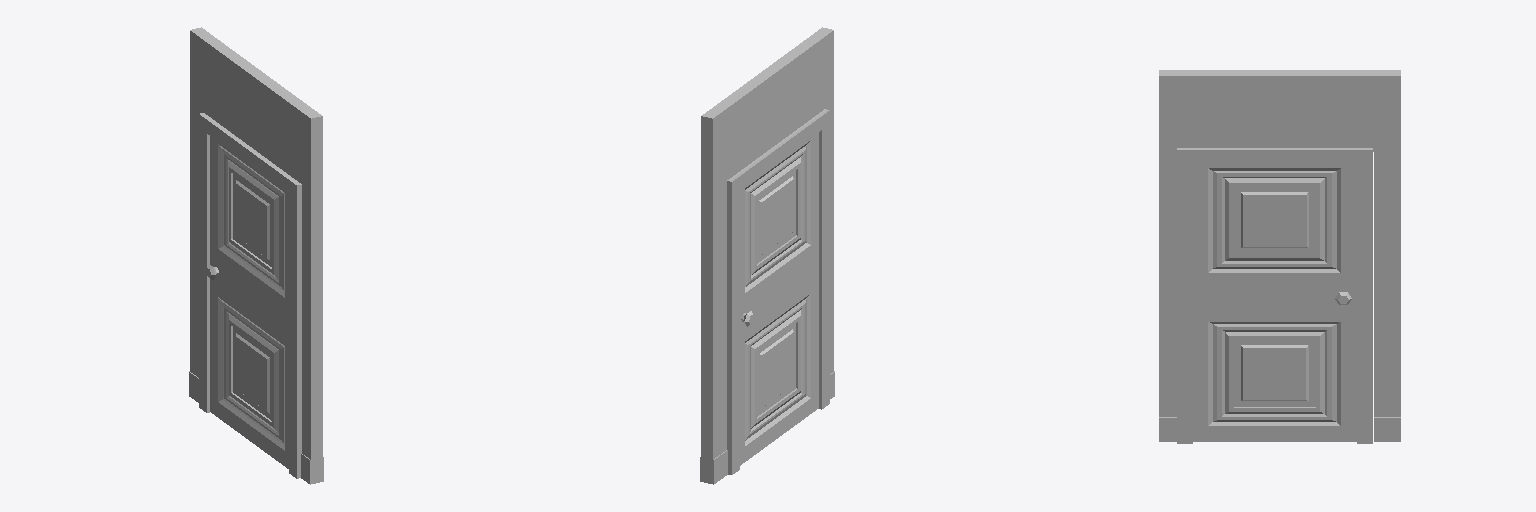
Rendered from Batente_com_porta.obj.
The picture shows the model from 3 angles: view 1: azimuth 30°, elevation 25°; view 2: azimuth 150°, elevation 25°; view 3: azimuth 270°, elevation 25°; orthographic projection.
Visible parts, largest first — view 1: Batente_com_porta; view 2: Batente_com_porta; view 3: Batente_com_porta.
Part boxes in pixels (left/top/right/bottom): Batente_com_porta: left=189, top=27, right=323, bottom=484; Batente_com_porta: left=700, top=27, right=834, bottom=484; Batente_com_porta: left=1159, top=70, right=1400, bottom=443.
Bounding box in the file's own units: 0.5304 × 5.97 × 3.58.